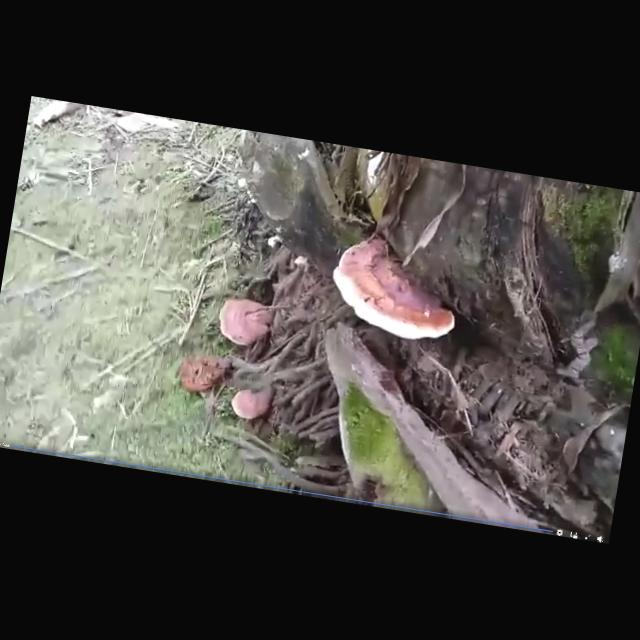ganoderma: (323, 232, 471, 351), (213, 296, 280, 354), (229, 379, 279, 428)
